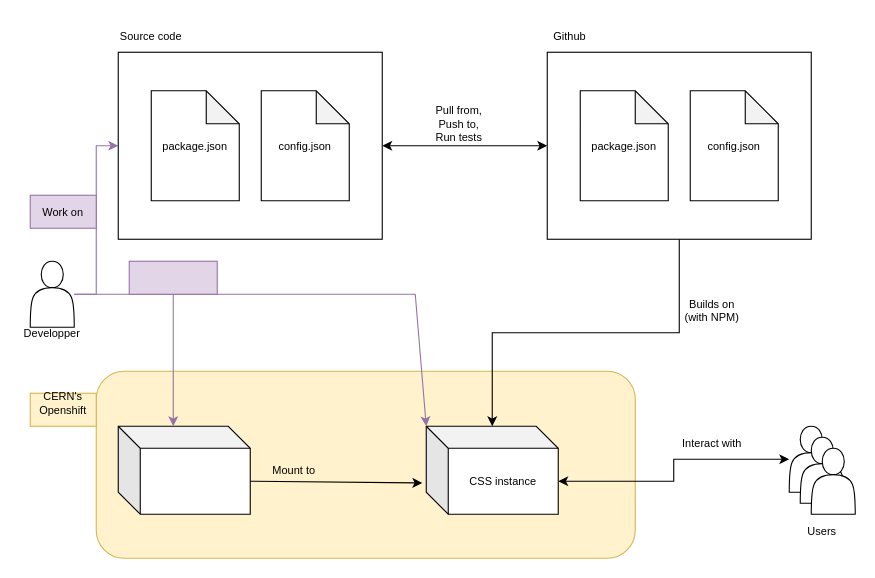
The diagram is 875 pixels wide and 578 high, and some of its shapes have lost their labels. The box of each missing label's shape, as (x1, y1, x2, y2) in pixels:
Creates: (128, 260, 217, 294)
Persistant Volume (user data storage): (117, 425, 250, 514)
